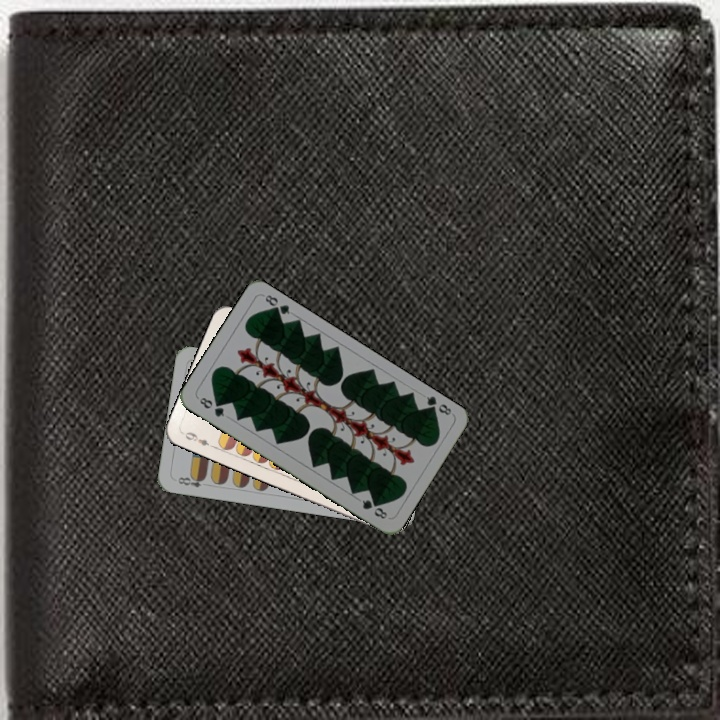E8: (174, 471, 208, 490)
E9: (179, 428, 217, 451)
G8: (195, 393, 227, 419), (422, 392, 454, 418)
